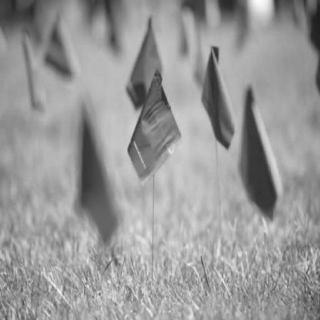other: (23, 6, 293, 216)
